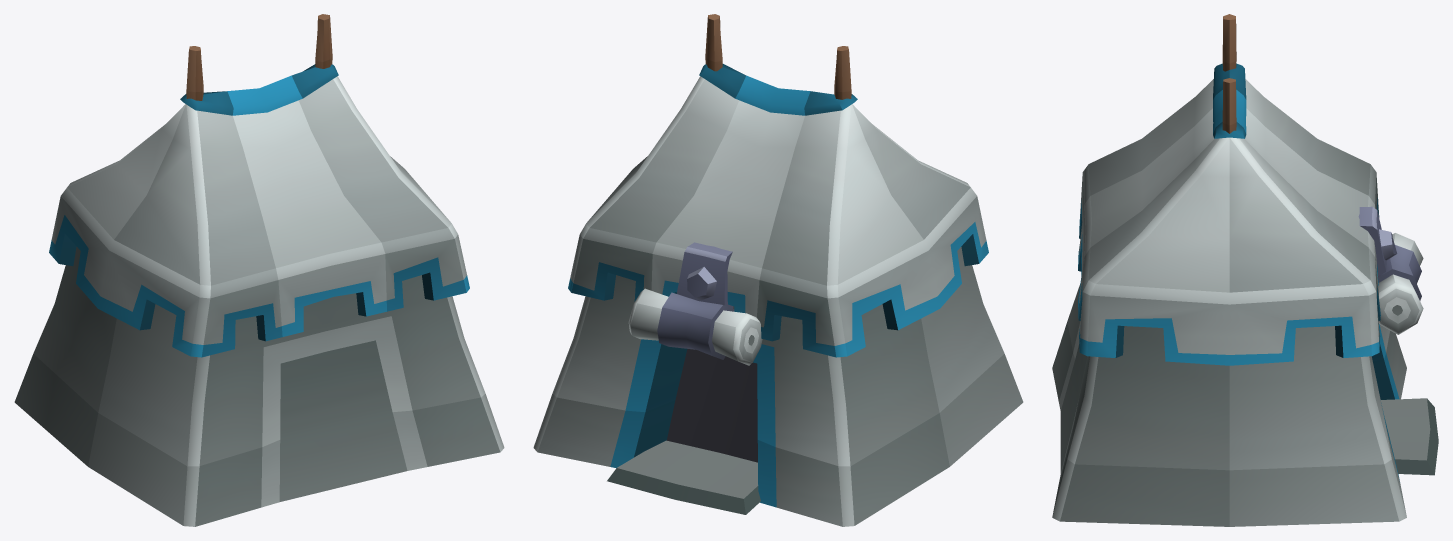
The model's file is camp-structure.obj.
The picture shows the model from 3 angles, left to right: view 1: azimuth 30°, elevation 25°; view 2: azimuth 150°, elevation 25°; view 3: azimuth 270°, elevation 25°; orthographic projection.
Visible parts, largest first — view 1: camp-structure; view 2: camp-structure; view 3: camp-structure.
Part boxes in pixels (x1=…): camp-structure: x1=14, y1=14, x2=504, y2=526; camp-structure: x1=533, y1=14, x2=1023, y2=526; camp-structure: x1=1052, y1=14, x2=1438, y2=526.
Bounding box in the file's own units: 8.71 × 9.53 × 8.47.
1 material, 1 textured.
